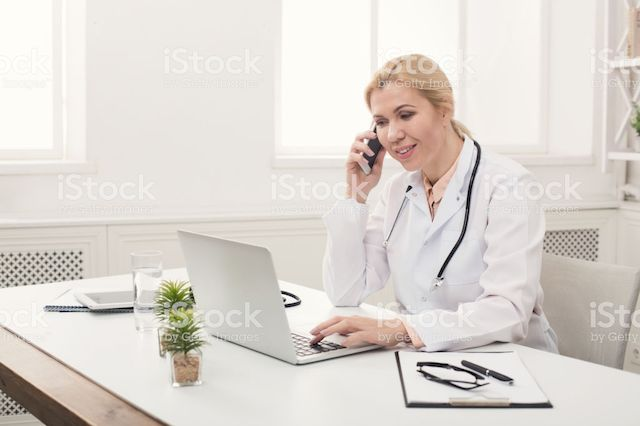phone: (359, 124, 386, 177)
talk: (348, 100, 426, 192)
